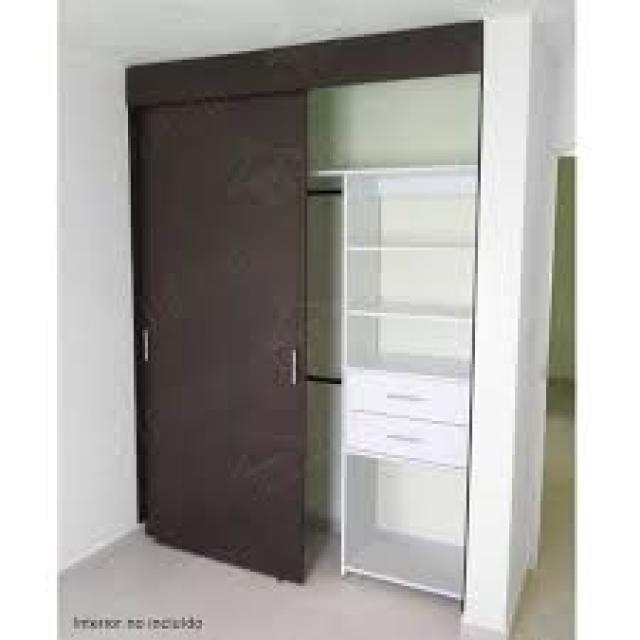door: (131, 90, 310, 584)
